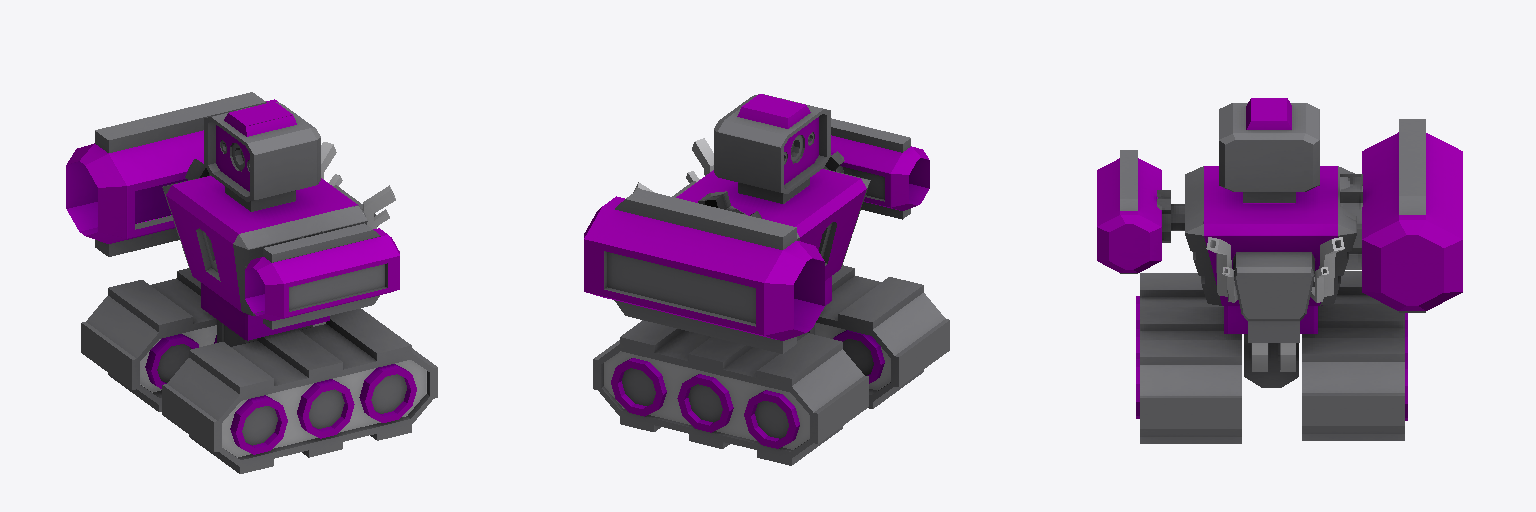
The picture shows the model from 3 angles: view 1: azimuth 30°, elevation 25°; view 2: azimuth 150°, elevation 25°; view 3: azimuth 270°, elevation 25°; orthographic projection.
Visible parts, largest first — view 1: Object006, Object007, Object011, Object010; view 2: Object006, Object011, Object007, Object010; view 3: Object006, Object007, Object011, Object010, Object009, Object008.
Part boxes in pixels (bbox=[...]): Object006: bbox=[81, 223, 437, 473]; Object007: bbox=[162, 101, 367, 346]; Object011: bbox=[66, 92, 278, 256]; Object010: bbox=[313, 142, 395, 326]; Object006: bbox=[593, 118, 949, 465]; Object011: bbox=[584, 189, 824, 353]; Object007: bbox=[676, 94, 870, 338]; Object010: bbox=[633, 138, 713, 197]; Object006: bbox=[1097, 150, 1407, 443]; Object007: bbox=[1185, 98, 1356, 387]; Object011: bbox=[1362, 119, 1462, 312]; Object010: bbox=[1206, 237, 1344, 371]; Object009: bbox=[1340, 174, 1362, 269]; Object008: bbox=[1157, 190, 1184, 242].
Size of the model in its own units: 87.04 by 108 by 123.
Materials: 1 (1 with a texture image).